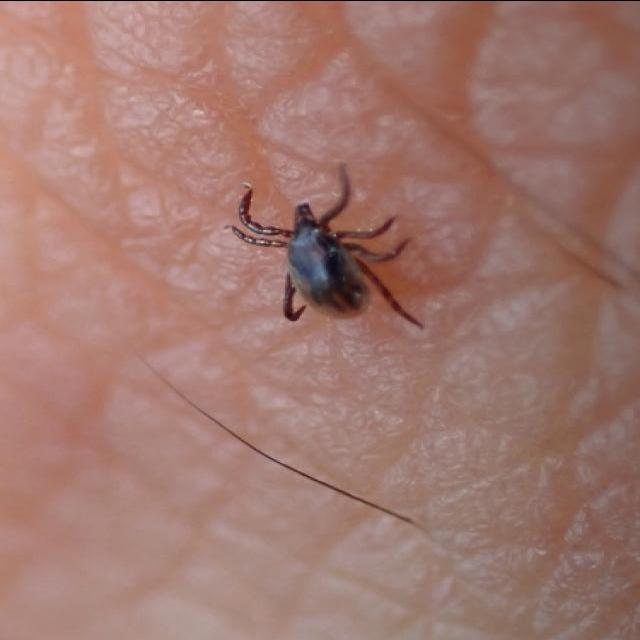Ixodes Ricinus-F: (232, 172, 423, 326)
